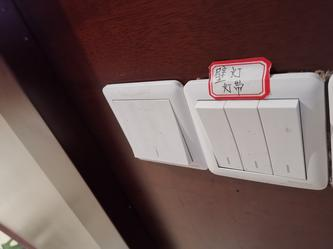switch: (110, 93, 190, 166), (256, 97, 316, 182), (222, 98, 276, 176), (196, 98, 243, 174)
